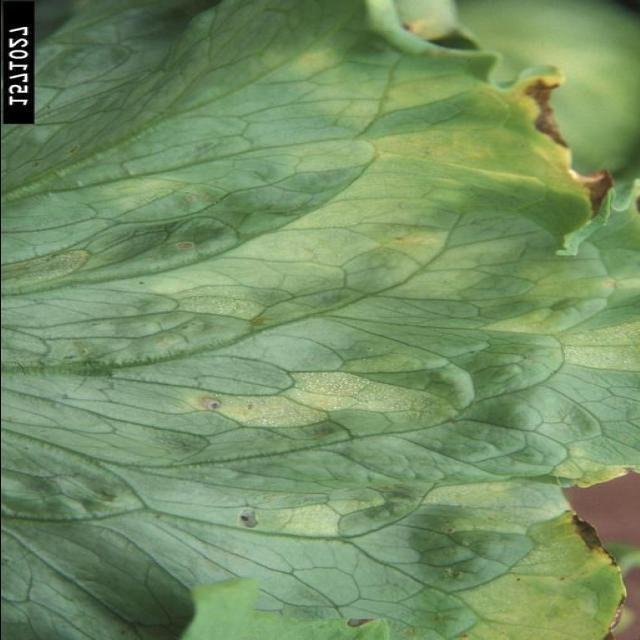Downy_mildew_on_lettuce: (415, 39, 619, 270)
Powdery_mildew_on_lettuce: (185, 342, 437, 453)
